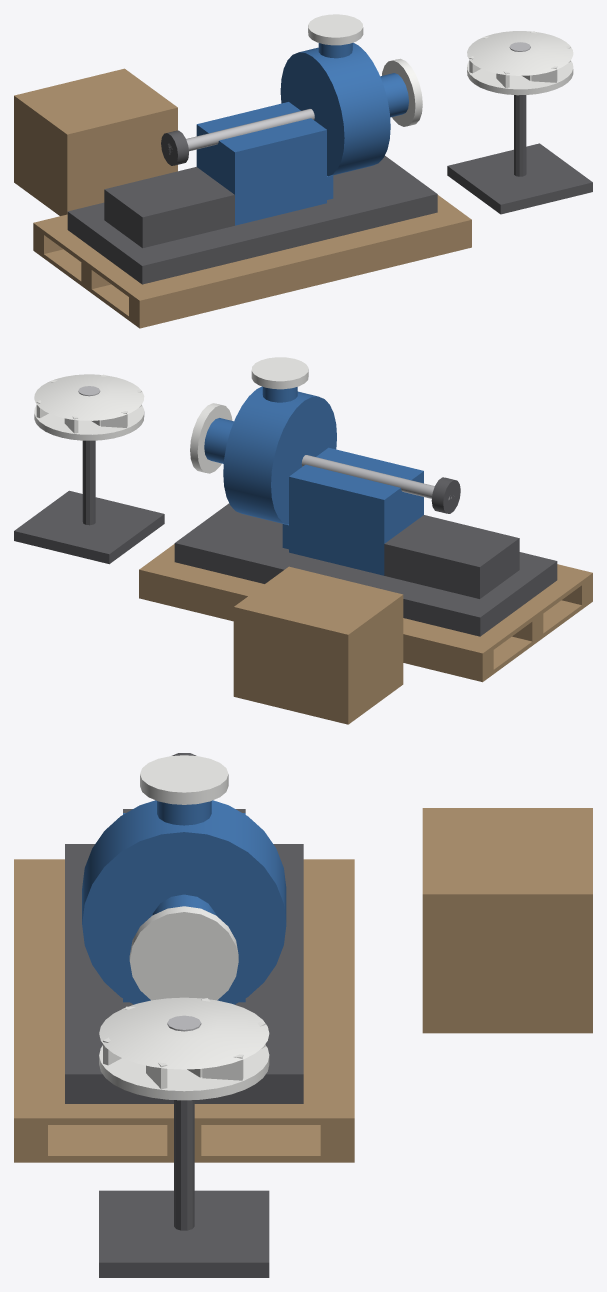
File: SM_AcidPumpSpare.fbx
The picture shows the model from 3 angles, top to bottom: view 1: azimuth 30°, elevation 25°; view 2: azimuth 150°, elevation 25°; view 3: azimuth 270°, elevation 25°; orthographic projection. The views are drawn at different scales.
Parts seen in each view (by area): view 1: AP_Pump, AP_SealCrate, AP_ImpellerStand, AP_SpareImpeller, AP_Shaft; view 2: AP_Pump, AP_SealCrate, AP_ImpellerStand, AP_SpareImpeller, AP_Shaft; view 3: AP_Pump, AP_SealCrate, AP_ImpellerStand, AP_SpareImpeller.
Part boxes in pixels (<box>): AP_Pump: <box>33,14,471,328</box>; AP_SealCrate: <box>14,68,177,215</box>; AP_ImpellerStand: <box>447,95,592,214</box>; AP_SpareImpeller: <box>467,31,573,95</box>; AP_Shaft: <box>161,109,314,165</box>; AP_Pump: <box>139,357,592,682</box>; AP_SealCrate: <box>233,566,403,724</box>; AP_ImpellerStand: <box>14,440,164,564</box>; AP_SpareImpeller: <box>34,374,144,440</box>; AP_Shaft: <box>301,455,460,513</box>; AP_Pump: <box>14,755,354,1162</box>; AP_SealCrate: <box>422,808,592,1033</box>; AP_ImpellerStand: <box>99,1100,269,1277</box>; AP_SpareImpeller: <box>99,997,269,1100</box>.
Bounding box in the file's own units: 260 × 105 × 170.
